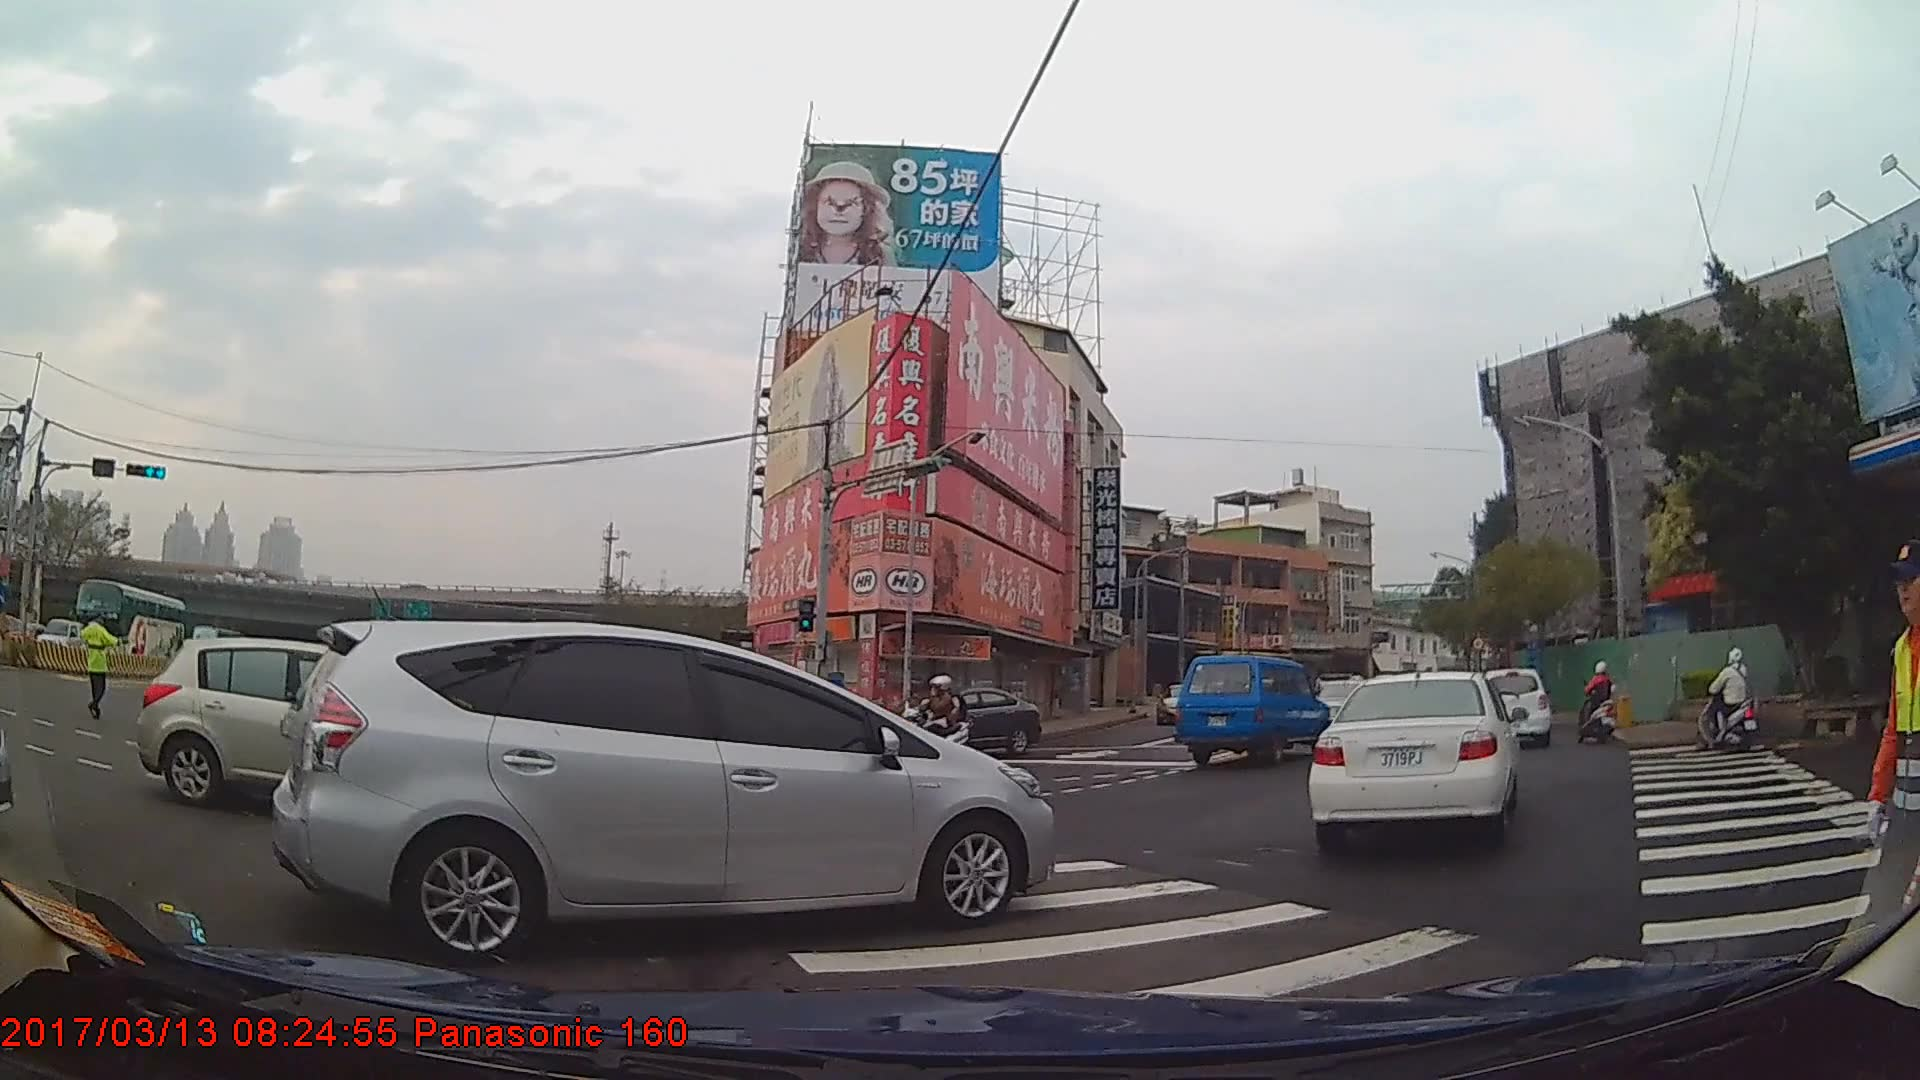pedestrian: (80, 612, 129, 726)
rider: (900, 679, 974, 766), (1696, 647, 1758, 753), (1578, 664, 1620, 745)
vehicle: (269, 616, 1058, 958), (137, 635, 450, 809), (1306, 671, 1517, 847), (1171, 653, 1324, 766), (72, 576, 187, 668), (890, 687, 1039, 757), (1476, 667, 1551, 750), (29, 616, 83, 662)
